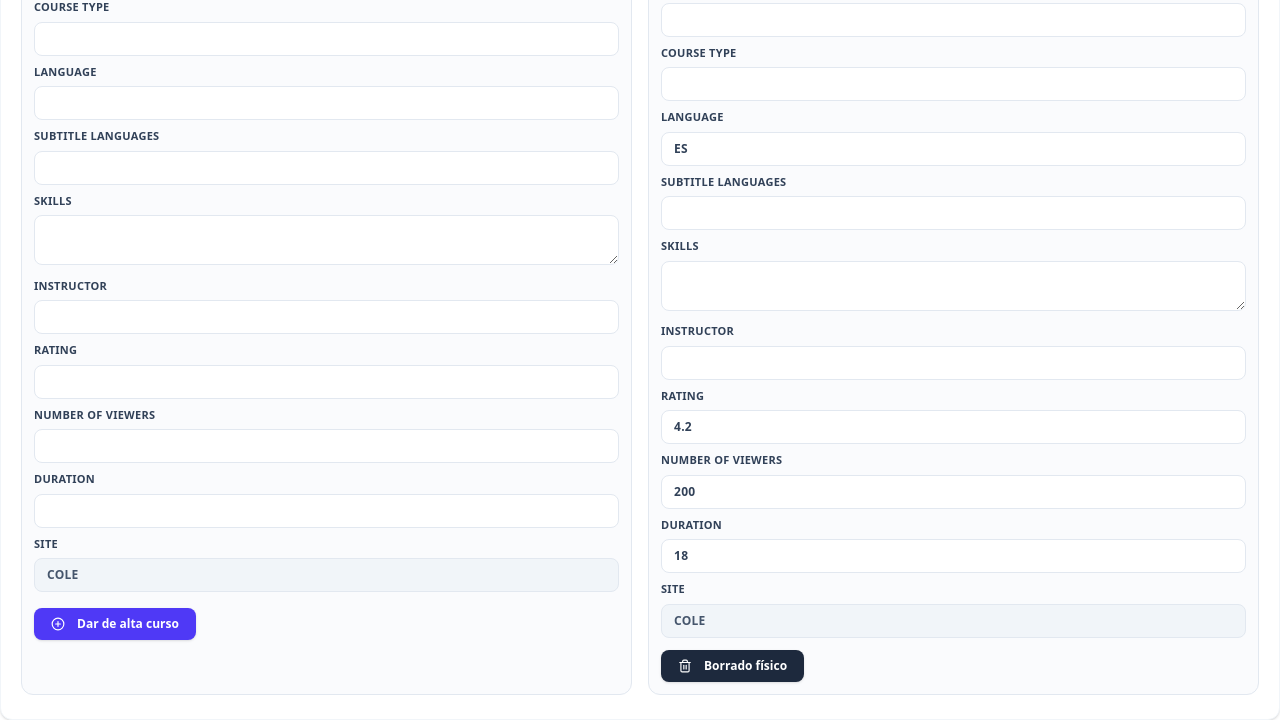
Test: AdminCourseCatalogPanel › alta negativa: rechaza formulario sin título
(page scrolled)
Click the button "Dar de alta curso".
click(115, 624)  # box [34, 608, 196, 640]
(page scrolled)
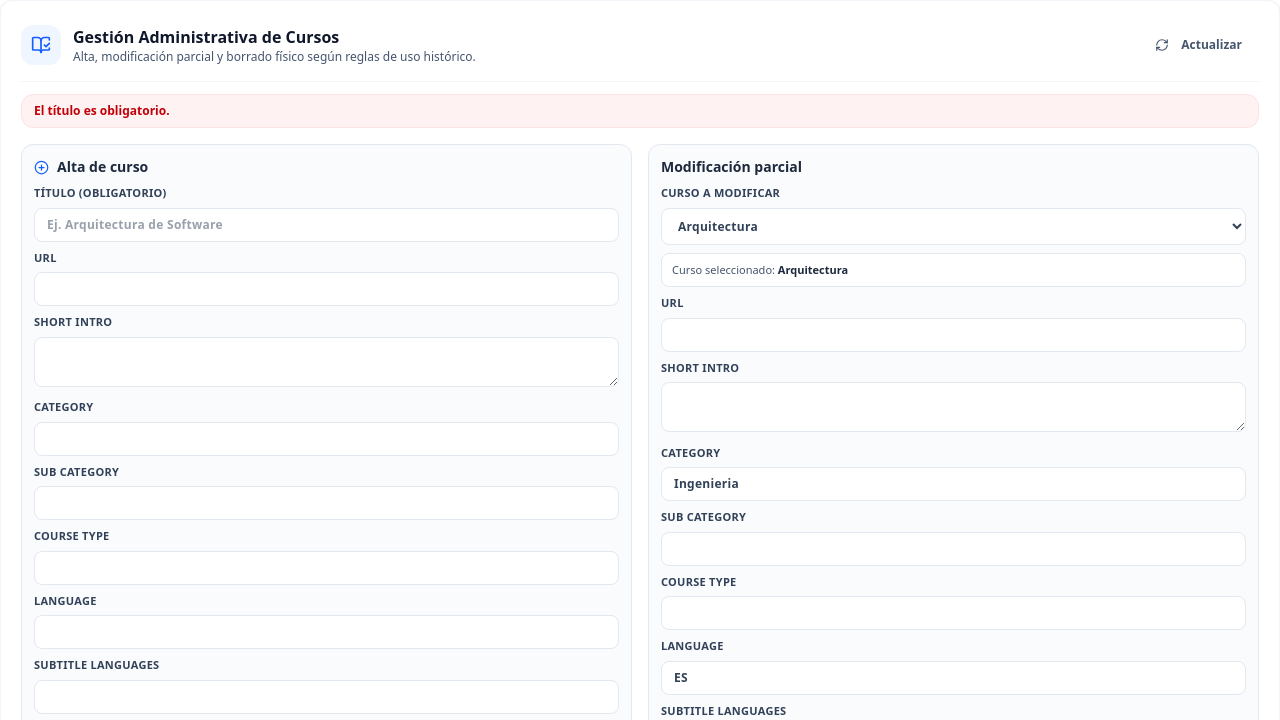
Check: the text "El título es obligatorio." is shown, box [21, 94, 1259, 128]
